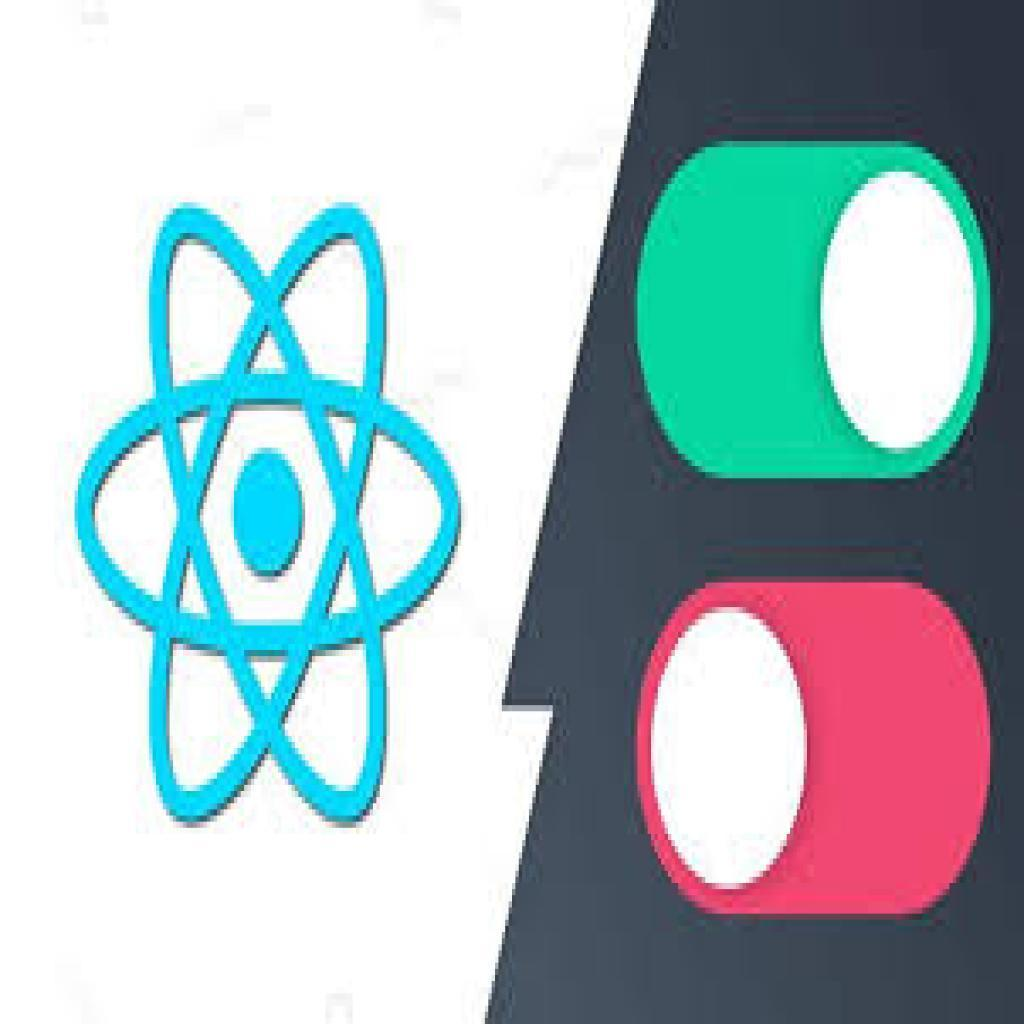switch: (626, 140, 998, 481), (628, 579, 999, 919)
